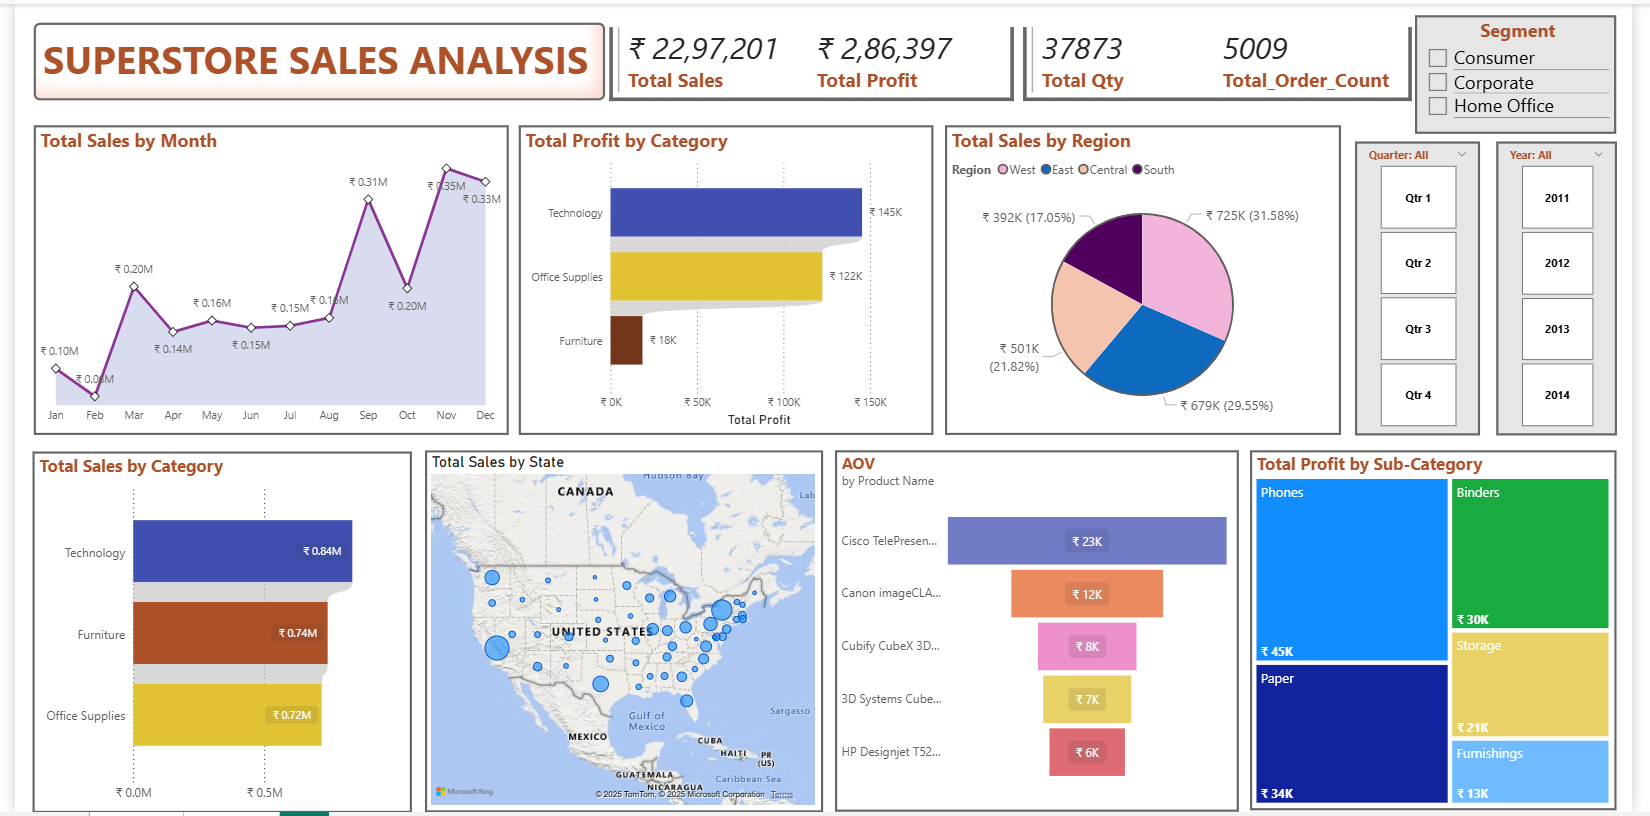

The dashboard page shown, as its layout file describes it:
{"tool":"powerbi","page":{"name":"Page 1","canvas":[1800,900],"ordinal":0},"visuals":[{"type":"multiRowCard","fields":{"Values":["Orders.Total Sales","Orders.Total Profit"]},"box":[657.3,20.2,459.8,100.9],"z":0},{"type":"areaChart","title":"Total Sales by Month","fields":{"Y":["Orders.Total Sales"],"Category":["Date_Table.Short_Month"]},"box":[20.2,135.5,529,344.5],"z":1000},{"type":"barChart","fields":{"Category":["Orders.Category"],"Y":["Orders.Total Profit"]},"box":[560.7,135.5,461.2,344.5],"z":2000},{"type":"map","fields":{"Category":["Orders.State"],"Size":["Orders.Total Sales"]},"box":[456.7,497.2,443.3,402.8],"z":3000},{"type":"pieChart","fields":{"Y":["Orders.Total Sales"],"Category":["Orders.Region"]},"box":[1034.9,135.5,441.1,344.5],"z":4000},{"type":"slicer","fields":{"Values":["Date_Table.Date.Variation.Date Hierarchy.Year"]},"box":[1648.9,152.8,134,327.2],"z":5000},{"type":"slicer","fields":{"Values":["Date_Table.Date.Variation.Date Hierarchy.Quarter"]},"box":[1491.7,153.1,139.1,327],"z":6000},{"type":"funnel","fields":{"Category":["Orders.Product Name"],"Y":["Orders.AOV"]},"box":[912.4,497.3,449.7,402.1],"z":7000},{"type":"barChart","fields":{"Y":["Orders.Total Sales"],"Category":["Orders.Category"]},"box":[19.6,497.7,422.3,402.6],"z":8000},{"type":"textbox","box":[20.2,20.2,635.7,86.5],"z":9000},{"type":"multiRowCard","fields":{"Values":["Orders.Total Qty","Orders.Total_Order_Count"]},"box":[1117.1,20.2,442.5,100.9],"z":10000},{"type":"slicer","title":"Segment","fields":{"Values":["Orders.Segment"]},"box":[1558.4,12.5,224,132.2],"z":11000},{"type":"treemap","fields":{"Group":["Orders.Sub-Category"],"Values":["Orders.Total Profit"]},"box":[1375.3,497.2,407.9,401.1],"z":12000}]}

Visuals, with their boxes in screenshot pixels (x1, y1, x2, y2), scaled from the page's 1800x900 canvas onto the 1650x816 screenshot:
multiRowCard - Orders.Total Sales x Orders.Total Profit: l=603, t=18, r=1024, b=110
"Total Sales by Month" areaChart: l=19, t=123, r=503, b=435
barChart - Orders.Category x Orders.Total Profit: l=514, t=123, r=937, b=435
map - Orders.State x Orders.Total Sales: l=419, t=451, r=825, b=815
pieChart - Orders.Total Sales x Orders.Region: l=949, t=123, r=1353, b=435
slicer - Date_Table.Date.Variation.Date Hierarchy.Year: l=1511, t=139, r=1634, b=435
slicer - Date_Table.Date.Variation.Date Hierarchy.Quarter: l=1367, t=139, r=1495, b=435
funnel - Orders.Product Name x Orders.AOV: l=836, t=451, r=1249, b=815
barChart - Orders.Total Sales x Orders.Category: l=18, t=451, r=405, b=815
textbox: l=19, t=18, r=601, b=97
multiRowCard - Orders.Total Qty x Orders.Total_Order_Count: l=1024, t=18, r=1430, b=110
"Segment" slicer: l=1429, t=11, r=1634, b=131
treemap - Orders.Sub-Category x Orders.Total Profit: l=1261, t=451, r=1635, b=814
